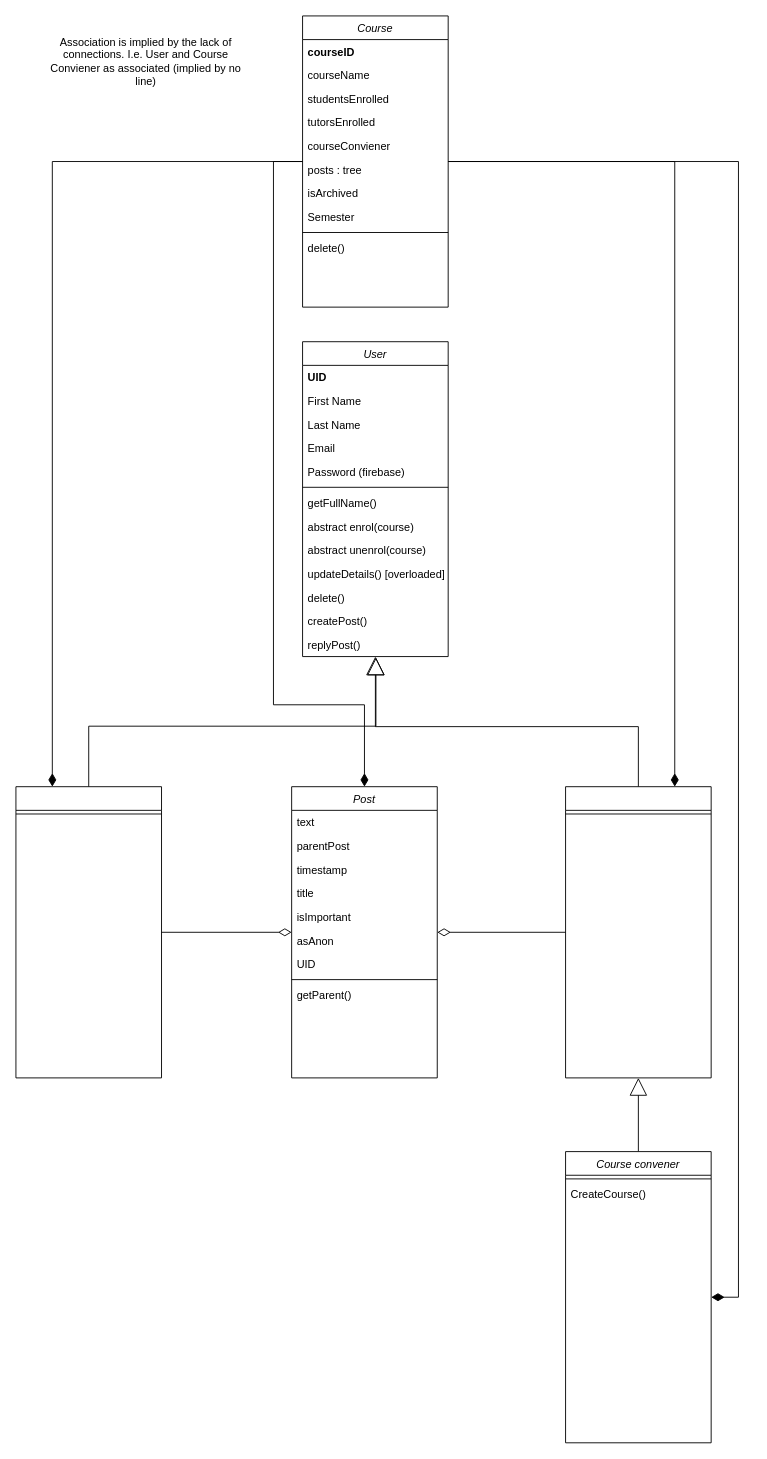
Image size: 767x1459. Some labels were removed from this diagram. Each missing label, with the centre of its shape:
"Student" belongs at pixel 88 932.
"Tutor" belongs at pixel 638 932.
